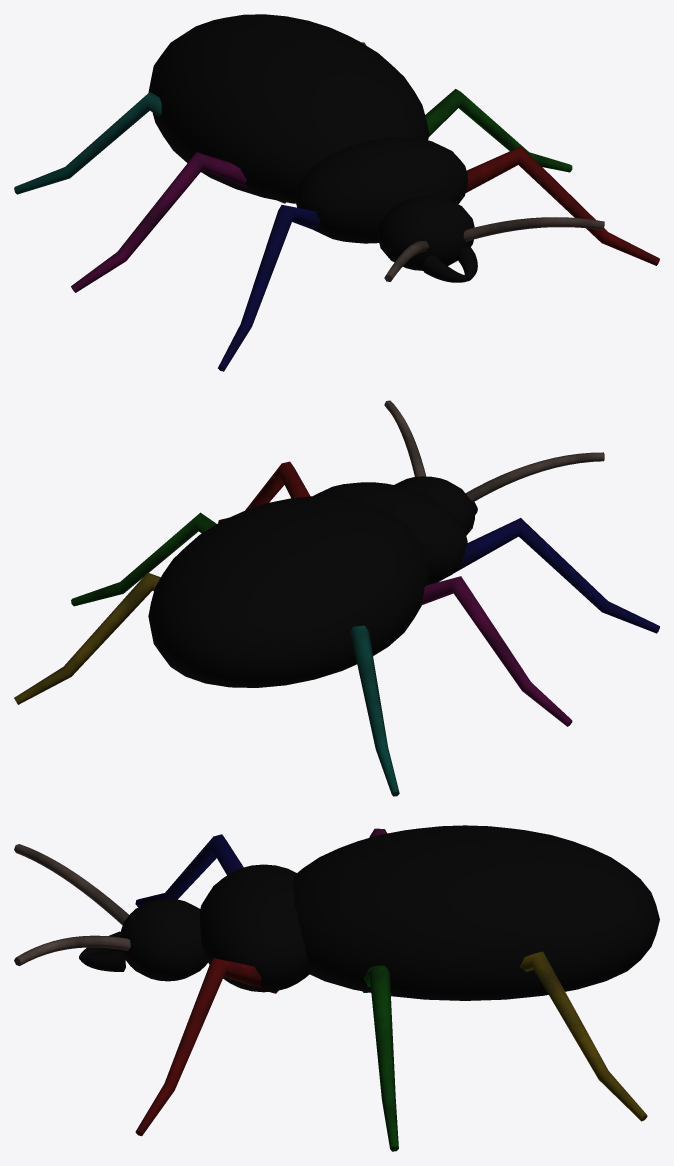
The model's file is beetle.glb.
3 views of the same model, one above another, from view 1: azimuth 30°, elevation 25°; view 2: azimuth 150°, elevation 25°; view 3: azimuth 270°, elevation 25° (orthographic). The views are drawn at different scales.
Parts seen in each view (by area): view 1: beetle; view 2: beetle; view 3: beetle.
Boxes of the visible parts, left/top/right/bottom form: beetle: left=14, top=14, right=659, bottom=371; beetle: left=14, top=400, right=659, bottom=796; beetle: left=14, top=825, right=659, bottom=1151.
Bounding box in the file's own units: 1.95 × 0.6113 × 2.02.
1 material, 1 textured.
